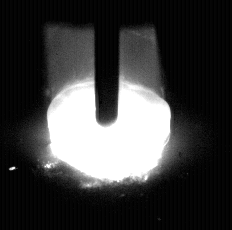arame: (95, 0, 121, 127)
poca: (47, 0, 171, 230)
